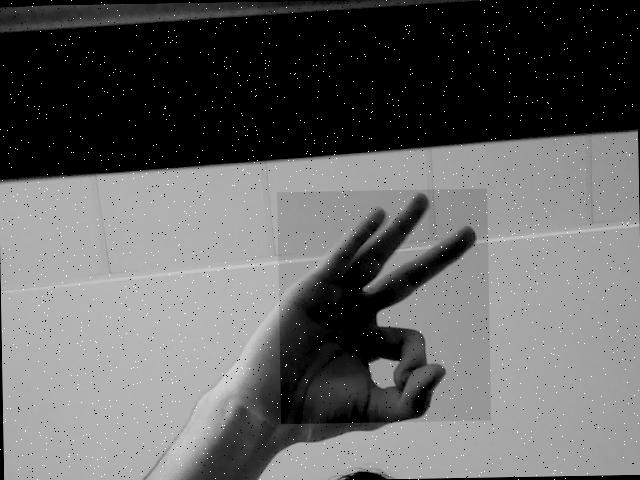OK: (277, 188, 491, 424)
